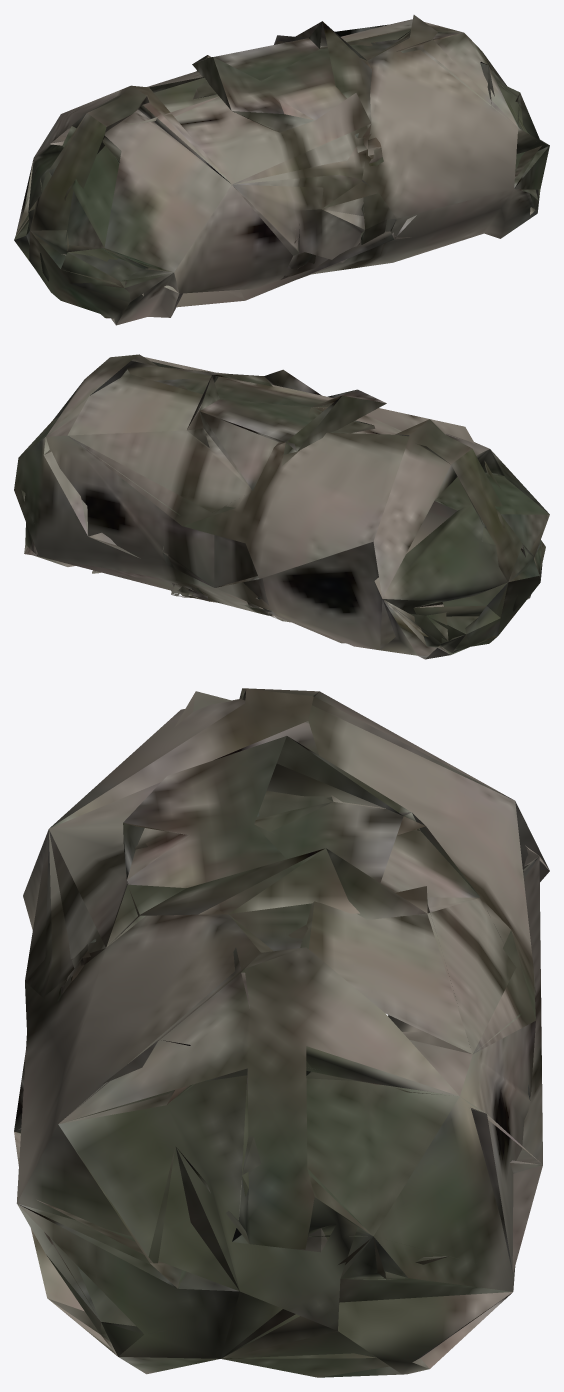
Rendered from sandbags_2136300680_lod0m.glb.
3 renders of one model, top to bottom at view 1: azimuth 30°, elevation 25°; view 2: azimuth 150°, elevation 25°; view 3: azimuth 270°, elevation 25°, orthographic. The views are drawn at different scales.
Bounding box in the file's own units: 2.59 × 1.11 × 1.32.
Materials: 1 (1 with a texture image).
